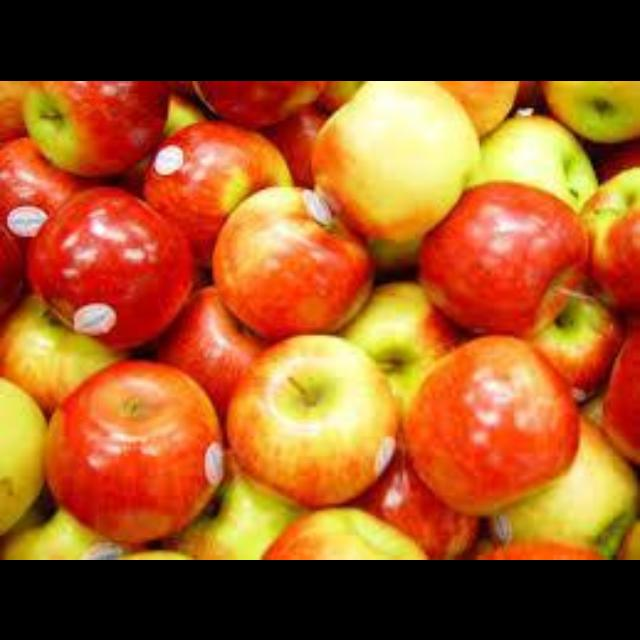apple: (44, 359, 222, 542), (403, 335, 578, 512), (227, 335, 398, 505), (311, 80, 477, 241), (27, 186, 193, 347), (418, 181, 586, 335), (213, 189, 373, 337), (146, 120, 289, 263), (489, 419, 638, 552), (339, 280, 460, 406), (156, 285, 264, 421), (22, 80, 168, 174), (469, 115, 596, 208), (262, 507, 425, 557), (0, 377, 44, 532), (539, 80, 638, 139), (603, 322, 638, 463)
